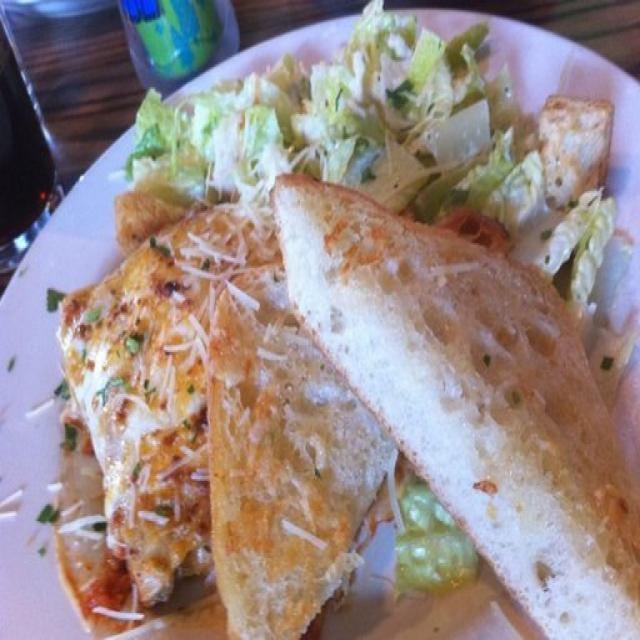Lasagna: (33, 221, 204, 595)
